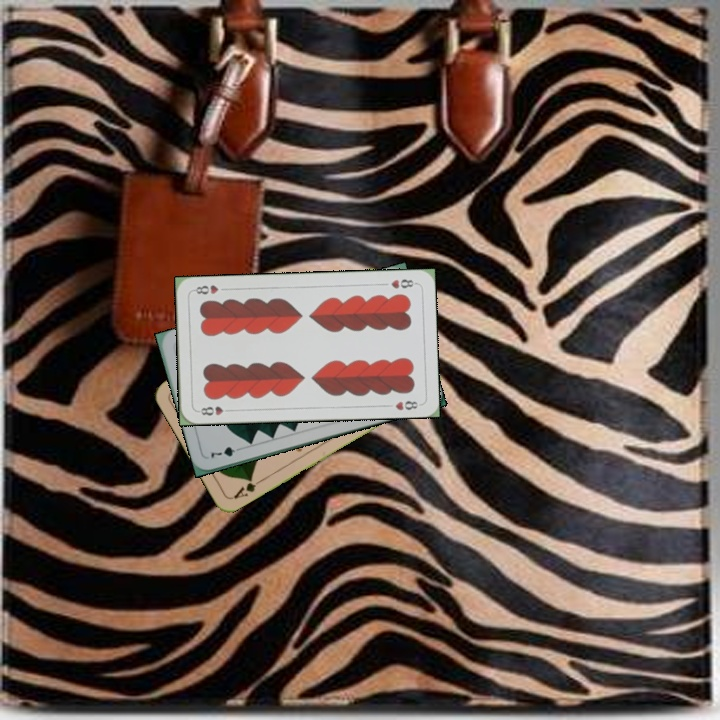G7: (207, 442, 246, 461)
GA: (230, 474, 265, 501)
H8: (194, 402, 234, 418), (387, 275, 419, 291)
